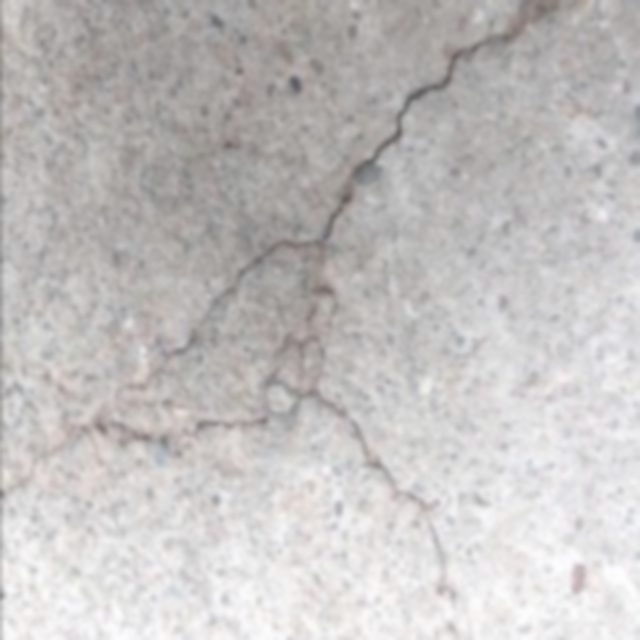SurfaceCrack: (64, 0, 566, 616)
